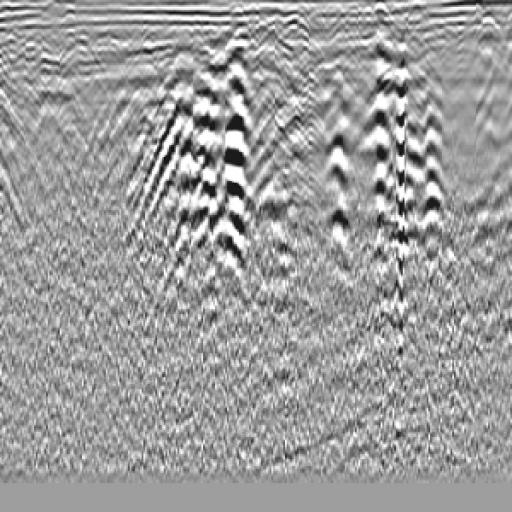metalic: (258, 50, 329, 250)
